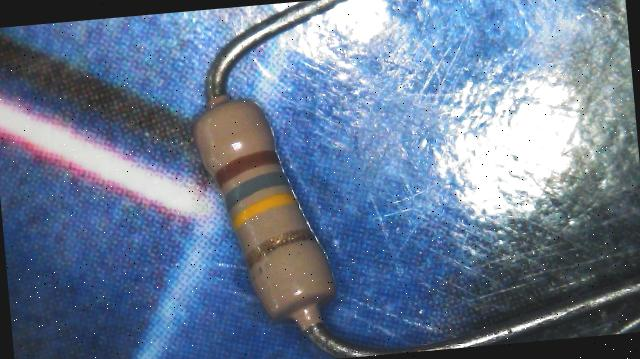brown: (206, 150, 280, 172)
gold: (244, 228, 311, 252)
grey: (230, 175, 284, 192)
resistor: (163, 82, 359, 352)
yellow: (233, 196, 292, 216)
